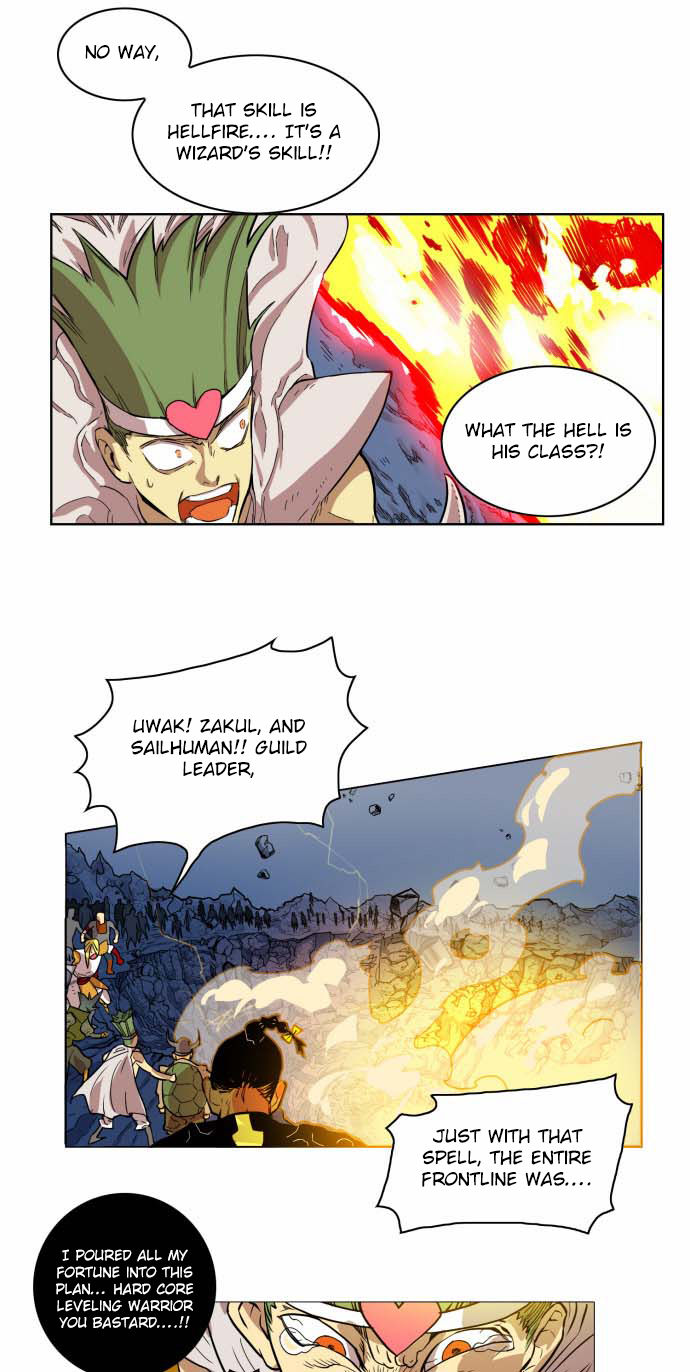bubble: (75, 637, 368, 895), (377, 1073, 633, 1234), (131, 54, 381, 213), (34, 1193, 216, 1372), (441, 366, 657, 516), (57, 8, 192, 100)
